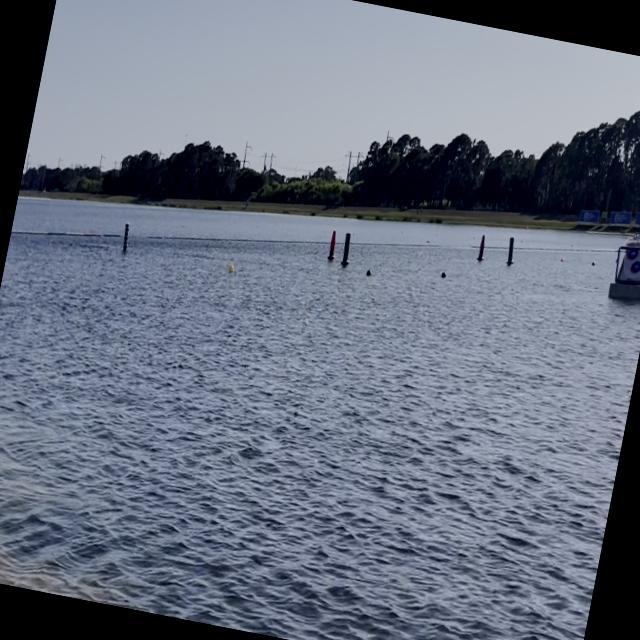buoy: (222, 260, 240, 280)
